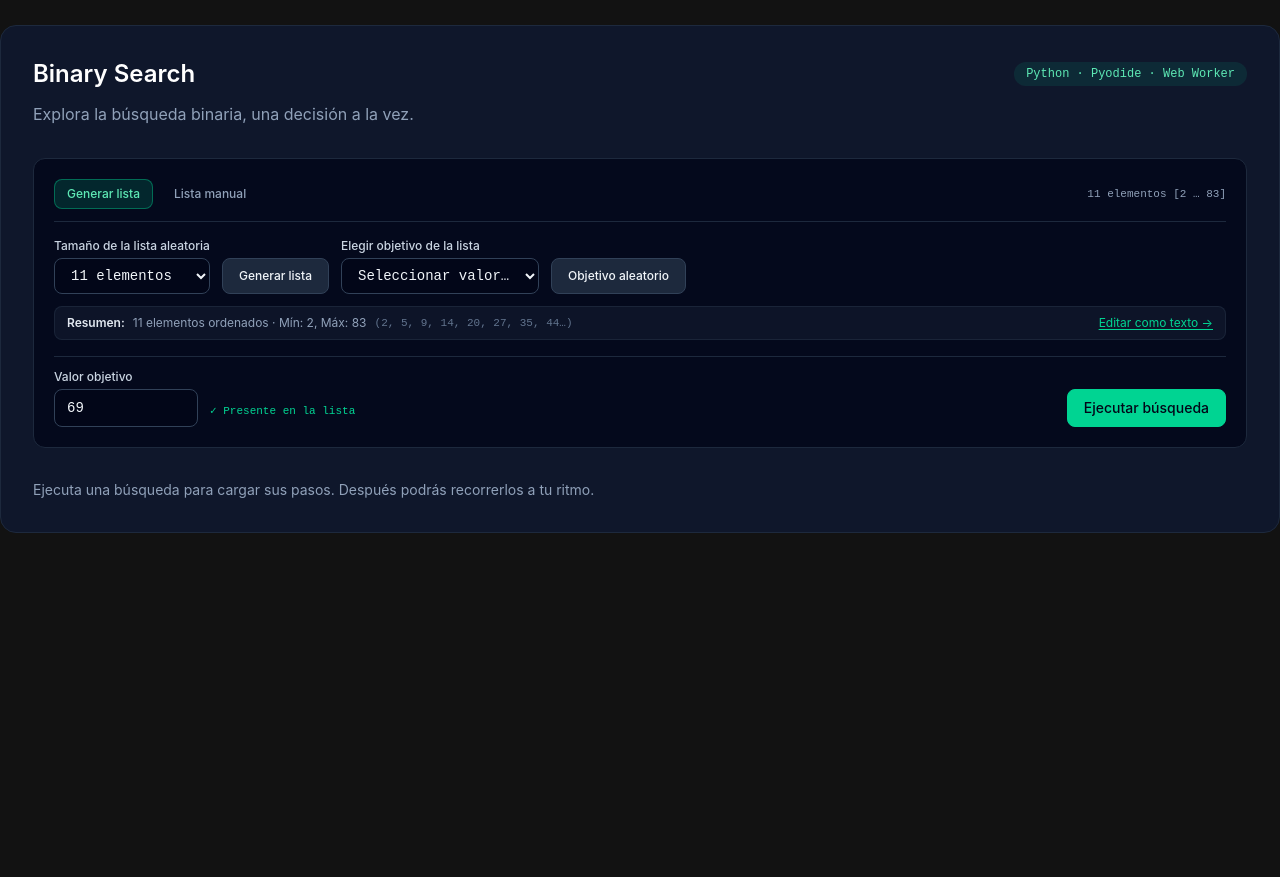
Visualización por eventos › permite desplazamiento continuo por la timeline y detenerse a mitad de animación
Step 1. Click the button "Ejecutar búsqueda" → (1146, 408), box left=1067, top=389, right=1226, bottom=427
(page scrolled)
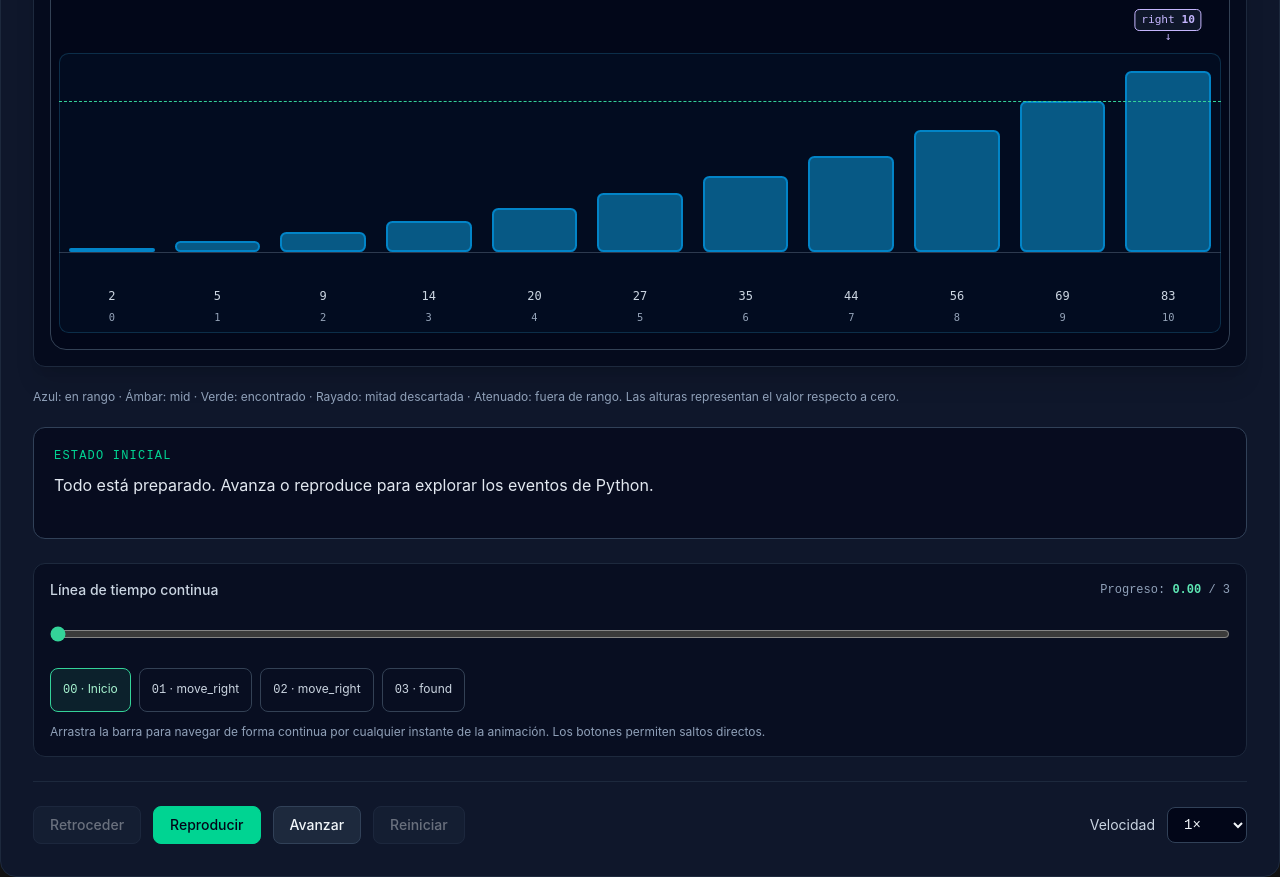
Step 2. Set the slider labelled "Línea de tiempo continua" to "1.45" → (621, 634), box left=50, top=612, right=1230, bottom=656
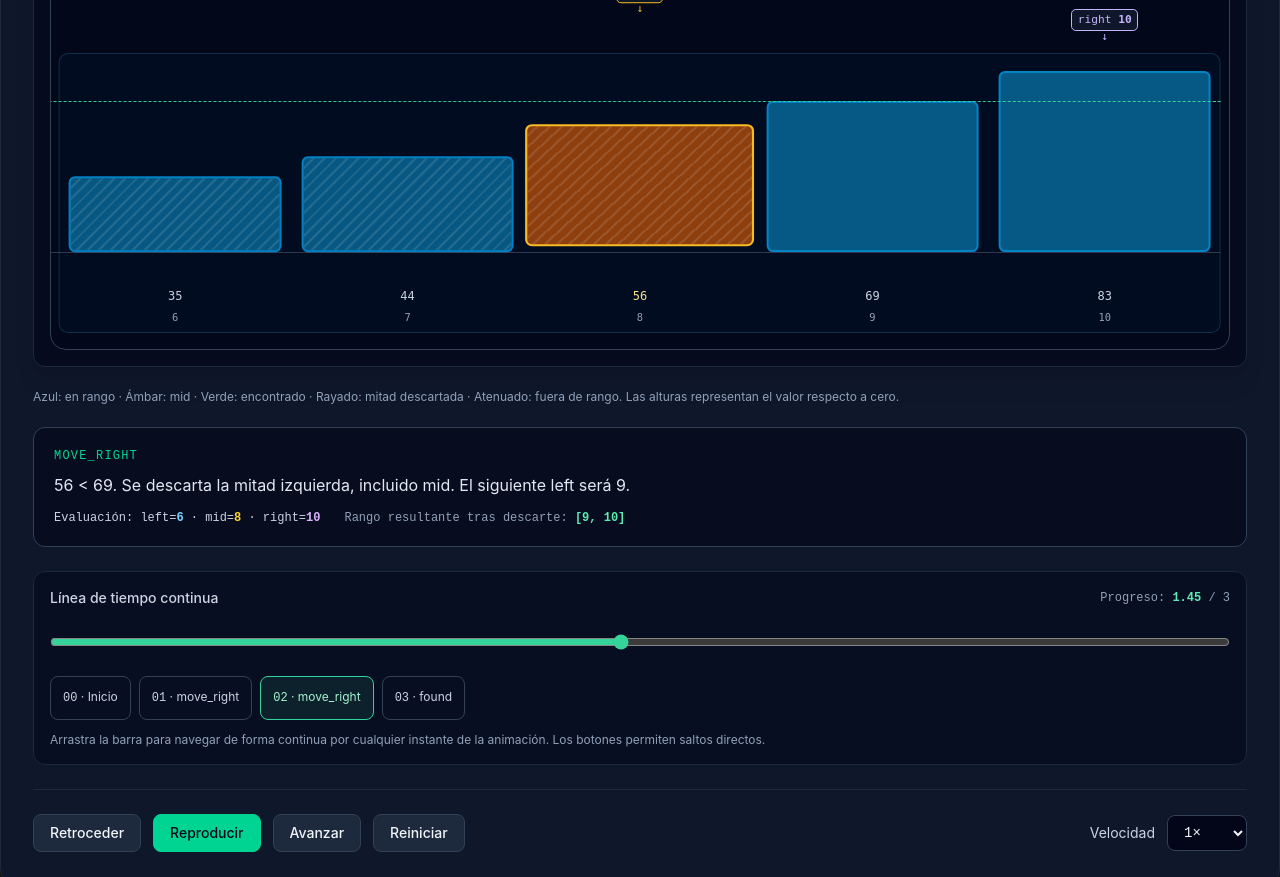
Result: the text "1.45" is shown at left=1172, top=591, right=1201, bottom=605
Step 3. Click the button "Reproducir" → (207, 833), box left=153, top=814, right=261, bottom=852
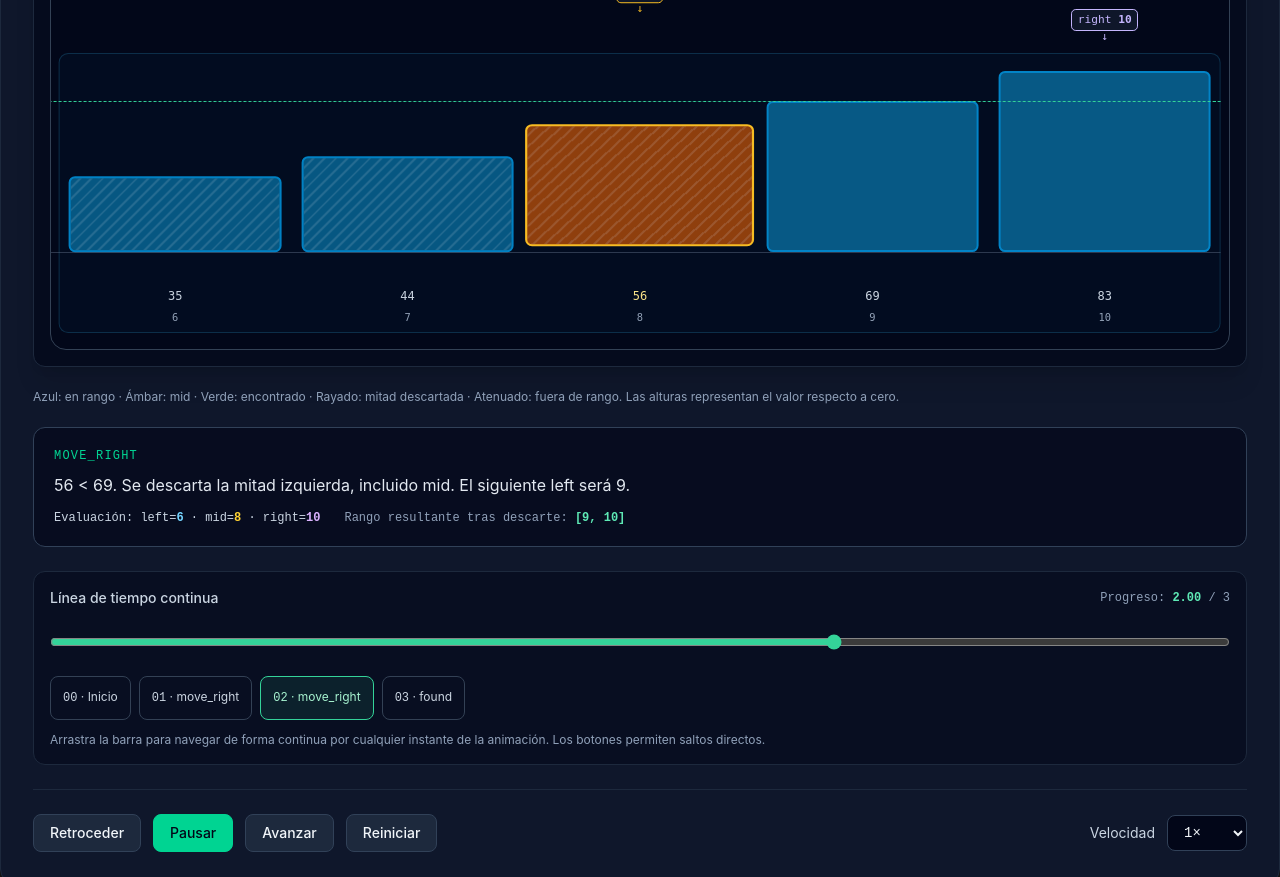
Result: the button "Pausar" is shown
Step 4. Click the button "Pausar" → (193, 833), box left=153, top=814, right=233, bottom=852
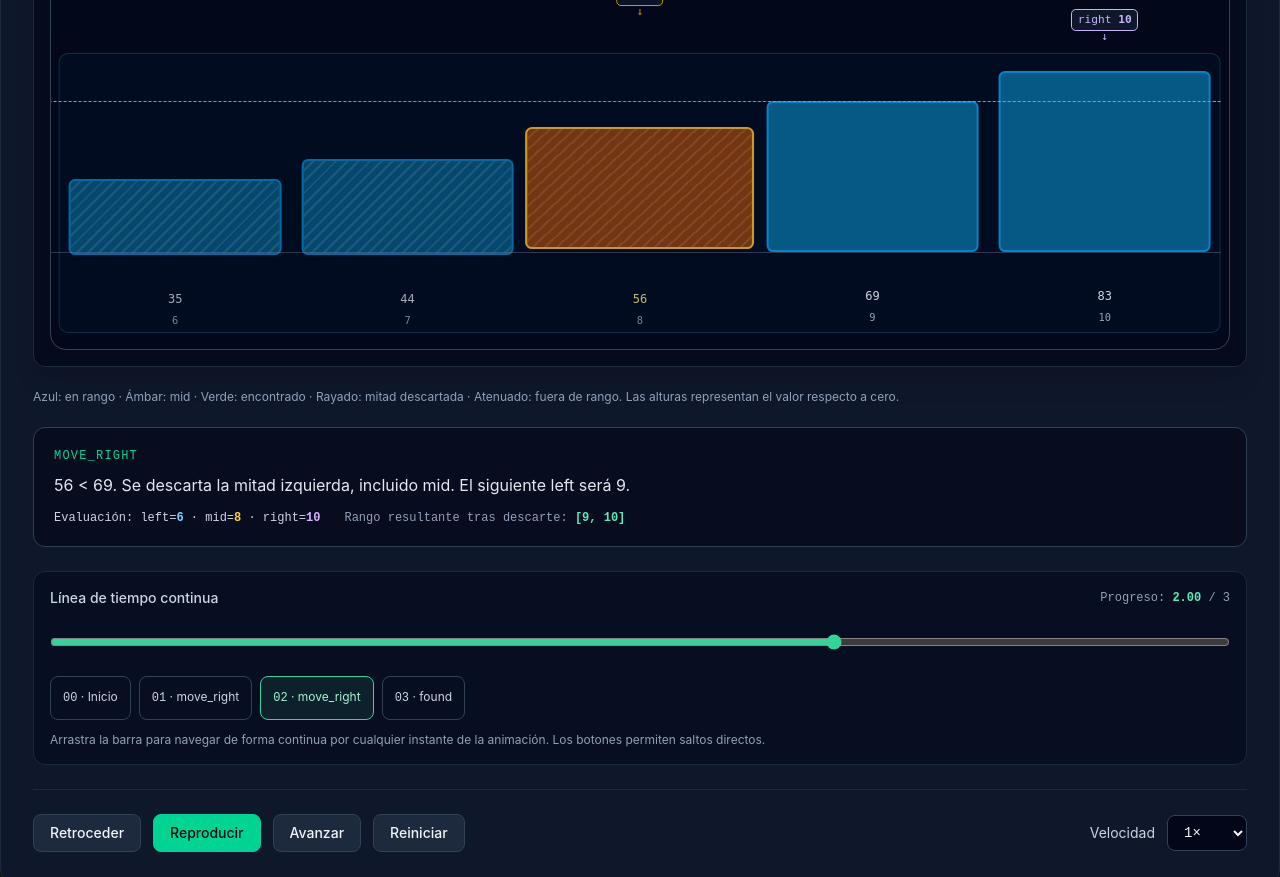
Result: the button "Reproducir" is shown at left=153, top=814, right=261, bottom=852
